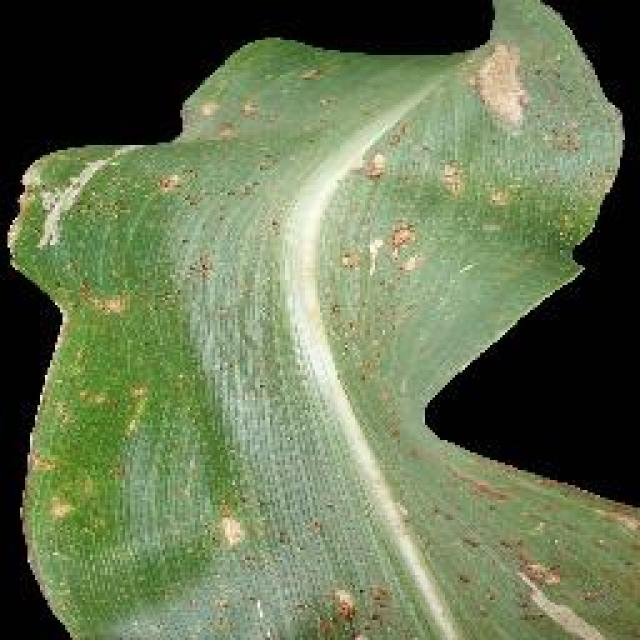Corn Common Rust: (154, 128, 534, 592)
